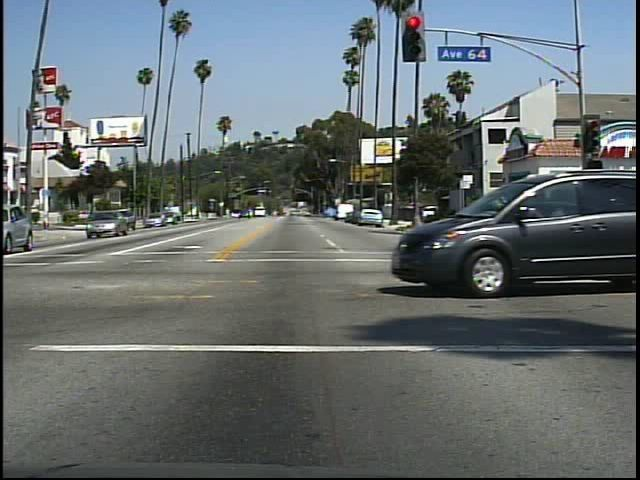person: (533, 194, 559, 247)
